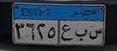2: (36, 22, 46, 42)
3: (15, 21, 25, 42)
5: (47, 25, 56, 41)
6: (25, 21, 35, 41)
ain: (59, 23, 74, 42)
baa: (75, 26, 88, 42)
seen: (88, 26, 102, 41)
